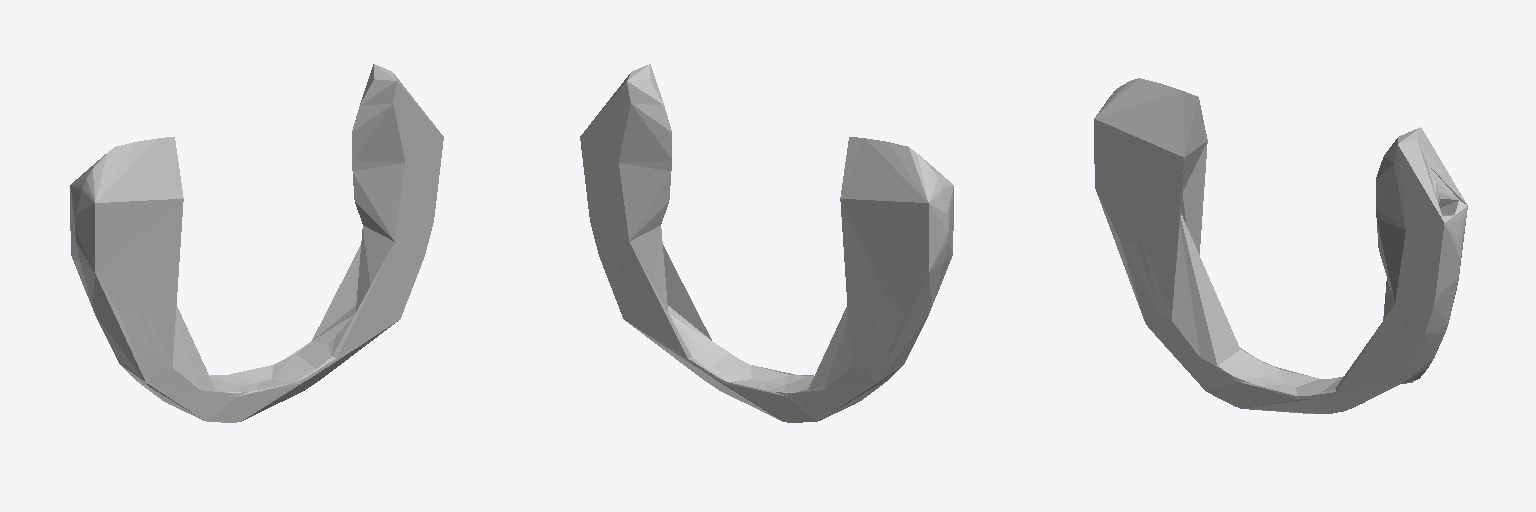
The model's file is fone.obj.
3 renders of one model, left to right at view 1: azimuth 30°, elevation 25°; view 2: azimuth 150°, elevation 25°; view 3: azimuth 330°, elevation 25°, orthographic.
Parts seen in each view (by area): view 1: grp1; view 2: grp1; view 3: grp1.
Boxes of the visible parts, box(x1,y1,x2,y2) form: grp1: box(70, 64, 443, 422); grp1: box(580, 64, 953, 422); grp1: box(1094, 78, 1467, 413).
Size of the model in its own units: 352 by 283 by 42.34.